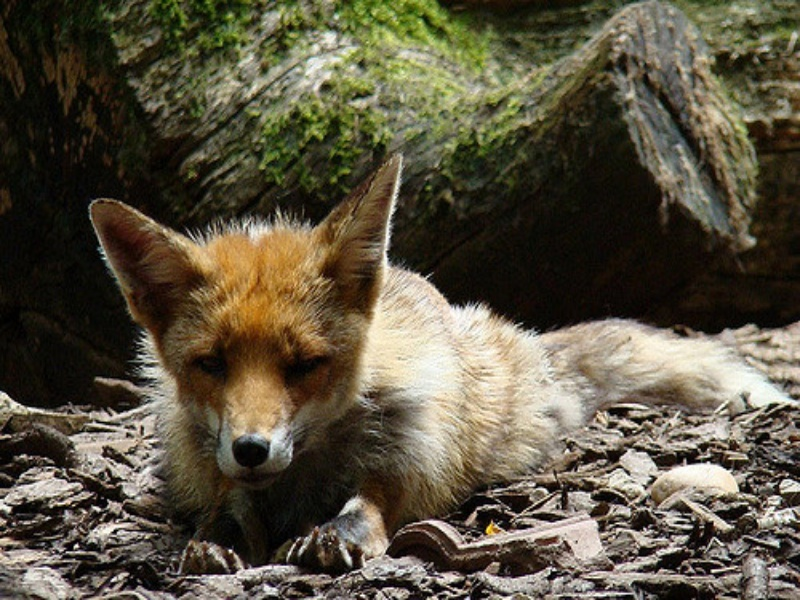fox: (82, 152, 768, 570)
